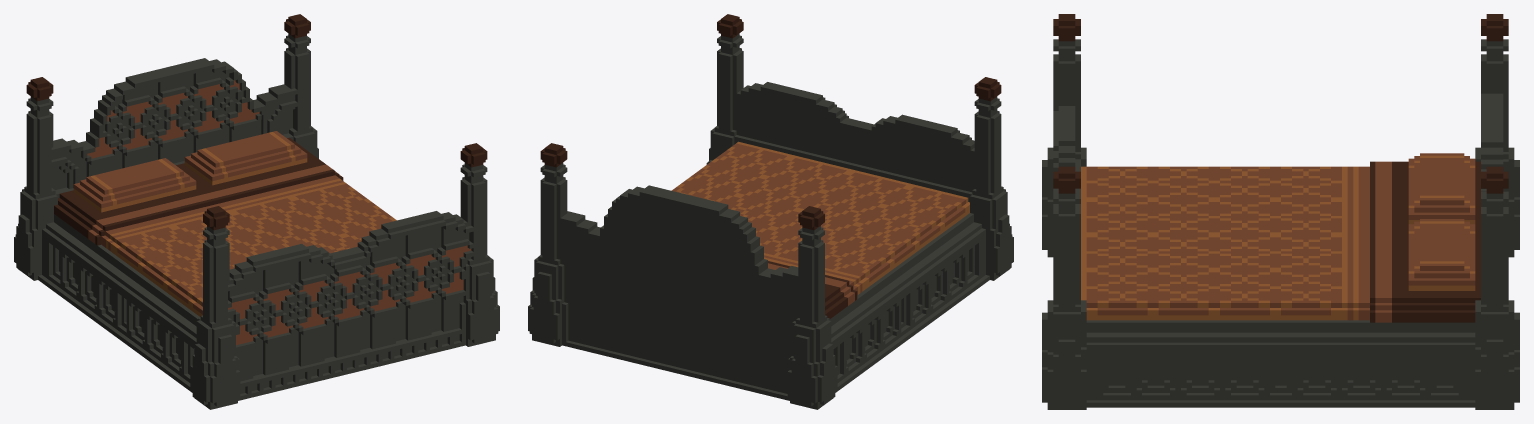
File: bed_03.obj
The picture shows the model from 3 angles, left to right: view 1: azimuth 30°, elevation 25°; view 2: azimuth 150°, elevation 25°; view 3: azimuth 270°, elevation 25°; orthographic projection. The views are drawn at different scales.
Bounding box in the file's own units: 74 × 46 × 86.
1 material, 1 textured.
